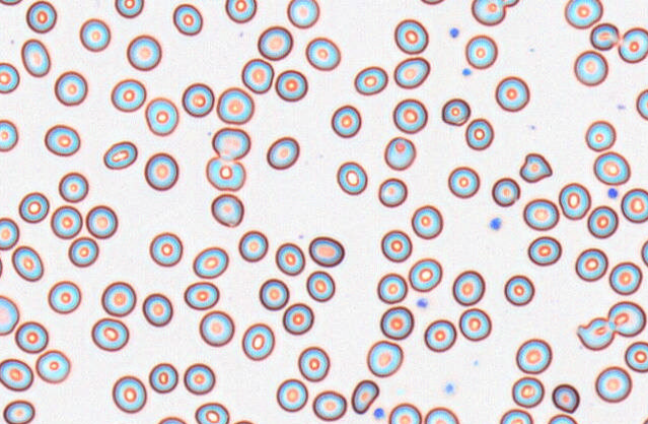PLT: (488, 216, 503, 231), (442, 381, 457, 395), (606, 187, 621, 201), (448, 27, 461, 40), (414, 297, 428, 309), (374, 408, 385, 420), (462, 69, 472, 77)
RBC: (594, 365, 632, 403), (216, 86, 254, 124), (607, 300, 646, 337), (366, 339, 403, 377), (205, 156, 245, 191), (111, 374, 146, 413), (144, 96, 178, 136), (515, 338, 552, 374), (211, 126, 250, 160), (144, 152, 178, 191), (198, 310, 234, 346), (494, 75, 529, 112), (126, 34, 161, 71), (91, 317, 129, 351), (393, 18, 428, 54), (573, 50, 608, 86), (257, 25, 293, 60), (593, 151, 630, 185), (241, 322, 274, 360), (558, 182, 591, 220), (101, 281, 136, 316), (392, 98, 427, 133), (379, 305, 414, 340), (305, 36, 340, 71), (110, 78, 146, 112), (149, 231, 183, 267), (393, 56, 430, 89), (35, 349, 70, 383), (408, 257, 442, 292), (54, 70, 87, 106), (452, 269, 485, 305), (192, 246, 228, 279), (297, 345, 330, 381), (522, 198, 559, 230), (11, 244, 43, 281), (20, 38, 50, 77), (608, 261, 642, 295), (210, 193, 244, 227), (47, 280, 81, 314), (241, 58, 274, 93), (181, 82, 214, 117), (308, 235, 344, 267), (44, 124, 80, 156), (564, 0, 603, 29), (14, 320, 48, 353), (423, 318, 456, 352), (458, 307, 491, 341), (575, 247, 608, 281), (85, 204, 118, 238), (50, 204, 82, 239), (312, 389, 347, 421), (411, 204, 443, 239), (465, 34, 497, 69), (0, 358, 33, 391), (266, 136, 299, 169), (276, 378, 308, 412), (383, 136, 415, 170), (336, 160, 367, 195), (618, 26, 647, 63), (511, 376, 544, 408), (25, 0, 57, 33), (282, 302, 314, 335), (183, 362, 215, 395), (380, 229, 412, 262), (79, 18, 110, 52), (330, 104, 361, 138), (527, 235, 561, 266), (142, 292, 173, 326), (102, 140, 137, 170), (353, 65, 388, 95), (183, 281, 219, 310), (275, 69, 307, 101), (447, 166, 479, 198), (587, 205, 618, 238), (18, 191, 49, 223), (258, 278, 289, 310), (503, 274, 534, 306), (585, 119, 616, 151), (172, 3, 203, 35), (238, 229, 268, 262), (275, 242, 305, 275), (620, 187, 647, 223), (68, 236, 99, 267), (376, 272, 407, 303), (305, 270, 335, 302), (58, 171, 88, 202), (148, 362, 178, 393), (286, 0, 319, 28), (465, 117, 493, 150), (491, 176, 520, 206), (378, 177, 407, 207), (471, 0, 505, 25), (441, 97, 470, 126), (589, 22, 619, 50), (551, 383, 579, 413), (2, 399, 35, 423), (0, 294, 19, 335), (194, 401, 229, 423), (624, 340, 647, 372), (224, 0, 256, 23), (388, 402, 421, 423), (0, 216, 19, 250), (0, 118, 18, 152), (0, 61, 19, 93), (424, 406, 459, 423), (114, 0, 144, 18), (499, 408, 533, 423), (636, 88, 647, 120), (546, 413, 578, 423), (156, 415, 187, 423), (641, 238, 648, 267), (501, 0, 519, 7), (420, 0, 445, 5), (231, 419, 256, 424), (0, 0, 23, 5), (0, 252, 3, 279), (640, 416, 647, 424)
Schistocyte: (575, 315, 615, 352), (518, 151, 554, 185), (351, 378, 380, 417)
